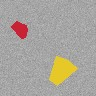hold: (49, 56, 77, 85)
volume: (12, 22, 27, 38)
